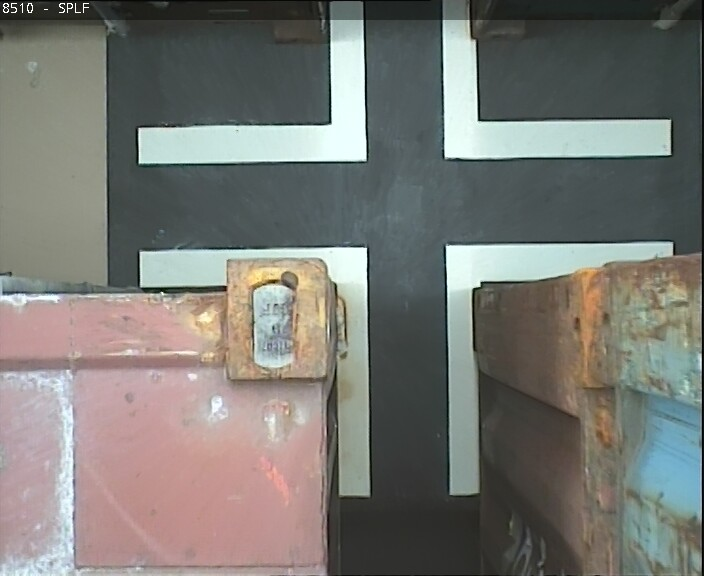groundmarker_1: (137, 243, 670, 493), (135, 1, 671, 165)
